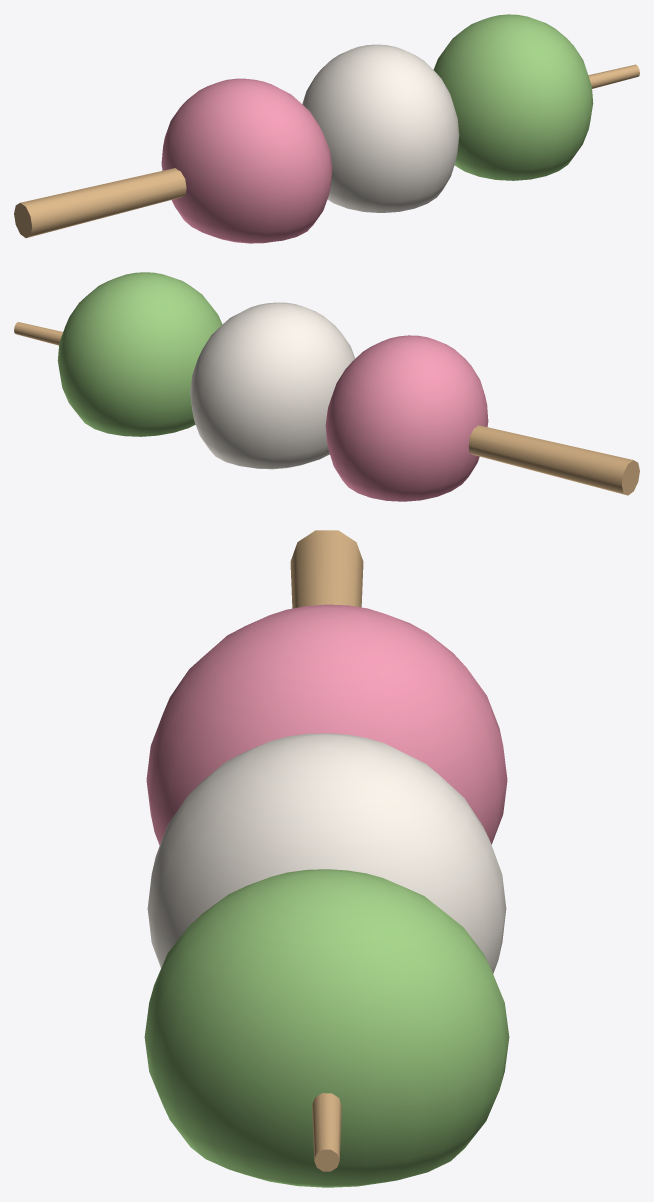
Rendered from Dango.glb.
3 renders of one model, top to bottom at view 1: azimuth 30°, elevation 25°; view 2: azimuth 150°, elevation 25°; view 3: azimuth 270°, elevation 25°, orthographic. The views are drawn at different scales.
Visible parts, largest first — view 1: Dango; view 2: Dango; view 3: Dango.
Part boxes in pixels (x1,y1,x2,y2): Dango: (14, 14, 639, 243); Dango: (14, 272, 639, 501); Dango: (144, 530, 509, 1187).
Size of the model in its own units: 2.33 by 0.5061 by 0.5997.
Materials: 4 (4 with a texture image).
